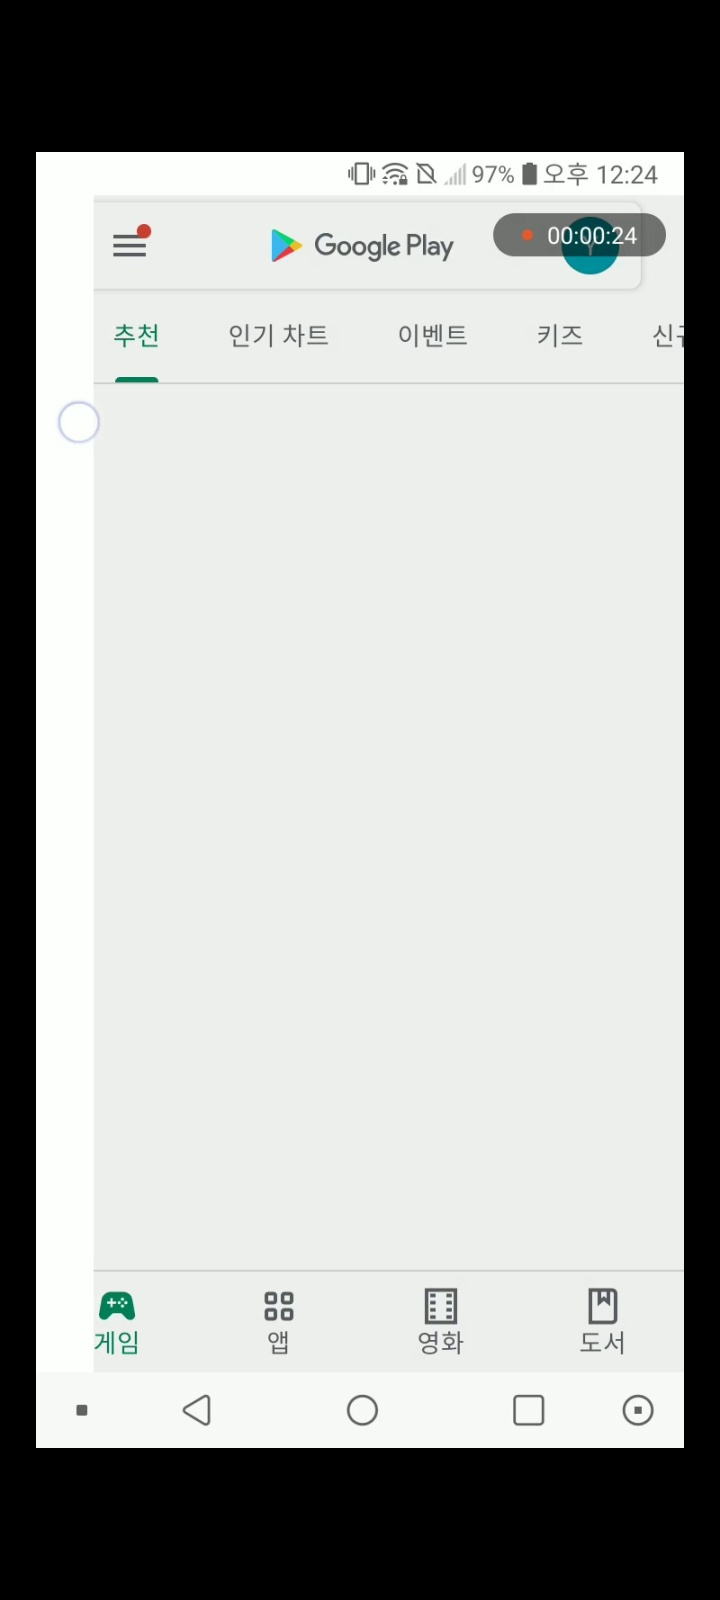Cursor: (57, 400, 102, 445)
